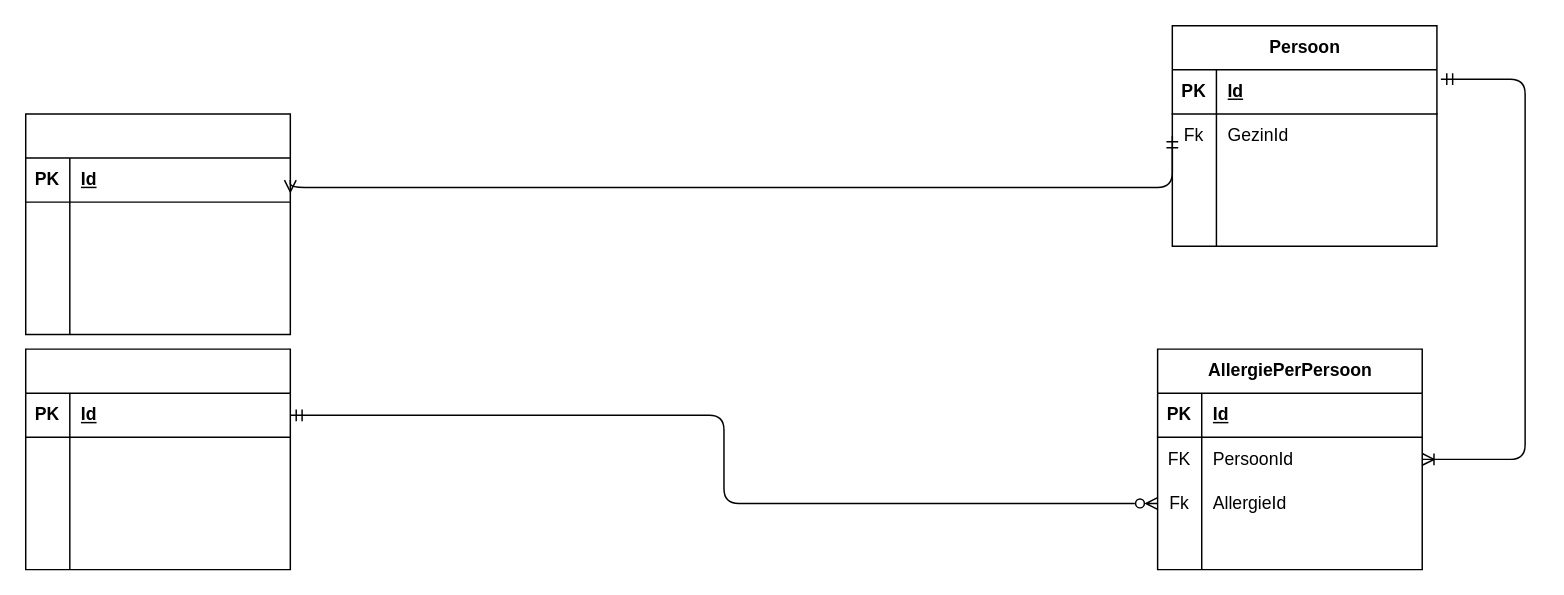
Image size: 1564x595. Some labels were removed from this diagram. Each missing label, with the box of its shape:
Allergie: (24, 348, 290, 570)
Gezin: (24, 112, 290, 334)
